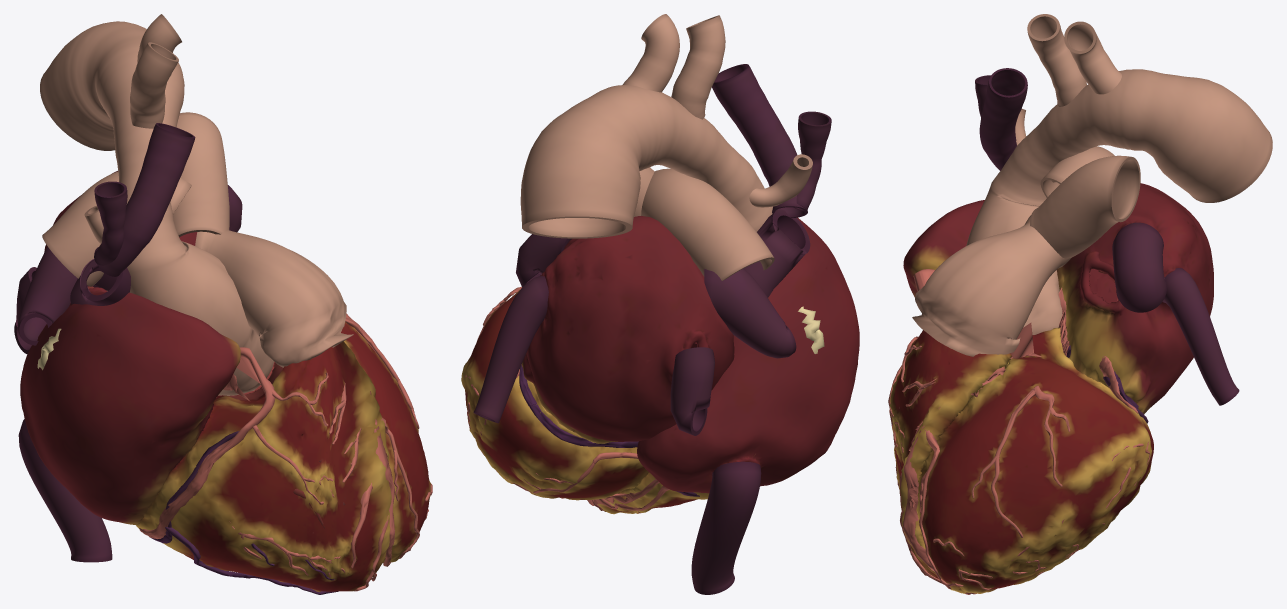
The model's file is heart.glb.
3 renders of one model, left to right at view 1: azimuth 30°, elevation 25°; view 2: azimuth 150°, elevation 25°; view 3: azimuth 270°, elevation 25°, orthographic. The views are drawn at different scales.
Visible parts, largest first — view 1: rv, ra, ves_aorta, ves_pt, lv, ves_lbcv, ves_lpa, ves_ivc, ves_rpa, ves_rspv, cor_FJ2723, ves_lcca (+8 smaller); view 2: la, ra, ves_aorta, lv, ves_rpa, ves_ivc, ves_lbcv, ves_lipv, ves_rspv, ves_lcca, ves_ripv, ves_svc (+7 smaller); view 3: lv, ves_aorta, la, ves_pt, rv, ves_lpa, ves_lipv, ves_lspv, ra, ves_lbcv, ves_lcca, ves_lsa (+6 smaller).
Part boxes in pixels (left/top/right/bottom): rv: left=136, top=341, right=391, bottom=591; ra: left=20, top=287, right=240, bottom=524; ves_aorta: left=40, top=21, right=274, bottom=395; ves_pt: left=195, top=230, right=353, bottom=367; lv: left=235, top=322, right=430, bottom=562; ves_lbcv: left=94, top=123, right=195, bottom=276; ves_lpa: left=173, top=112, right=229, bottom=237; ves_ivc: left=18, top=419, right=112, bottom=562; ves_rpa: left=42, top=171, right=191, bottom=286; ves_rspv: left=17, top=247, right=101, bottom=345; cor_FJ2723: left=139, top=347, right=275, bottom=539; ves_lcca: left=130, top=42, right=178, bottom=128; la: left=521, top=216, right=734, bottom=443; ra: left=637, top=217, right=859, bottom=493; ves_aorta: left=520, top=85, right=772, bottom=238; lv: left=461, top=290, right=648, bottom=500; ves_rpa: left=641, top=168, right=774, bottom=280; ves_ivc: left=691, top=461, right=761, bottom=594; ves_lbcv: left=712, top=64, right=807, bottom=217; ves_lipv: left=473, top=275, right=548, bottom=423; ves_rspv: left=704, top=268, right=796, bottom=358; ves_lcca: left=671, top=15, right=725, bottom=119; ves_ripv: left=670, top=347, right=714, bottom=435; ves_svc: left=744, top=210, right=810, bottom=297; lv: left=916, top=327, right=1153, bottom=593; ves_aorta: left=966, top=69, right=1272, bottom=334; la: left=1056, top=183, right=1213, bottom=414; ves_pt: left=912, top=215, right=1070, bottom=356; rv: left=890, top=330, right=1011, bottom=584; ves_lpa: left=1030, top=155, right=1140, bottom=258; ves_lipv: left=1162, top=268, right=1239, bottom=405; ves_lspv: left=1112, top=222, right=1166, bottom=312; ra: left=903, top=200, right=1118, bottom=303; ves_lbcv: left=979, top=68, right=1027, bottom=170; ves_lcca: left=1027, top=14, right=1086, bottom=106; ves_lsa: left=1064, top=21, right=1121, bottom=94.
Size of the model in its own units: 0.1286 by 0.1911 by 0.1293.
